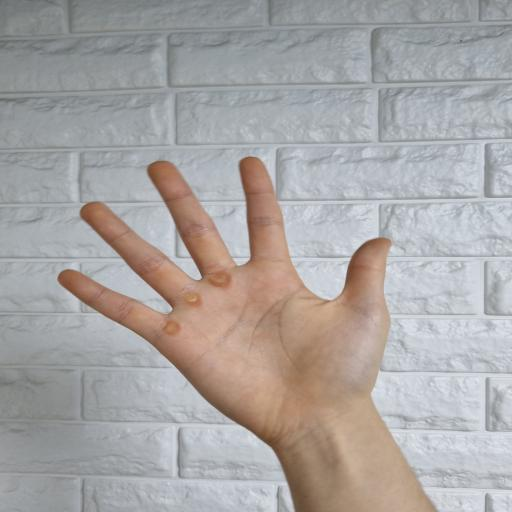Paper: (57, 156, 391, 452)
